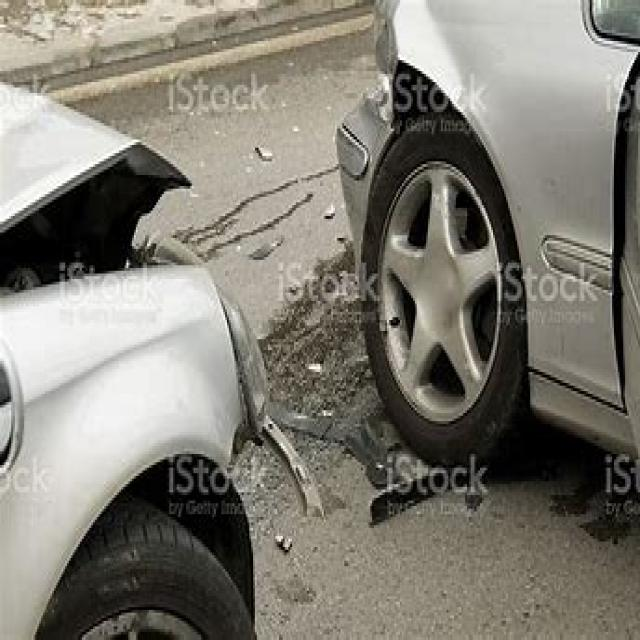Accident: (58, 48, 620, 487)
